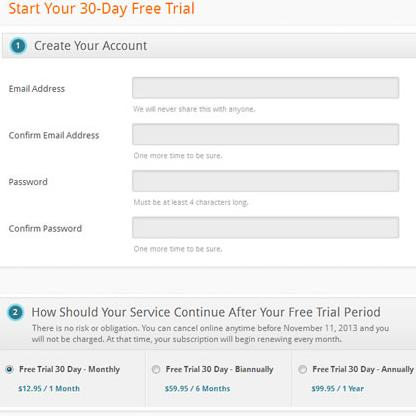field: (129, 76, 399, 100), (129, 169, 400, 192), (129, 215, 399, 238), (130, 124, 400, 145)
field_with_label: (9, 212, 402, 240), (9, 74, 400, 102), (7, 167, 403, 194), (9, 122, 403, 146)
radio: (3, 363, 18, 377), (150, 363, 163, 375), (299, 364, 311, 377)
radio_with_label: (148, 361, 276, 378), (296, 360, 416, 378), (0, 361, 121, 378)
